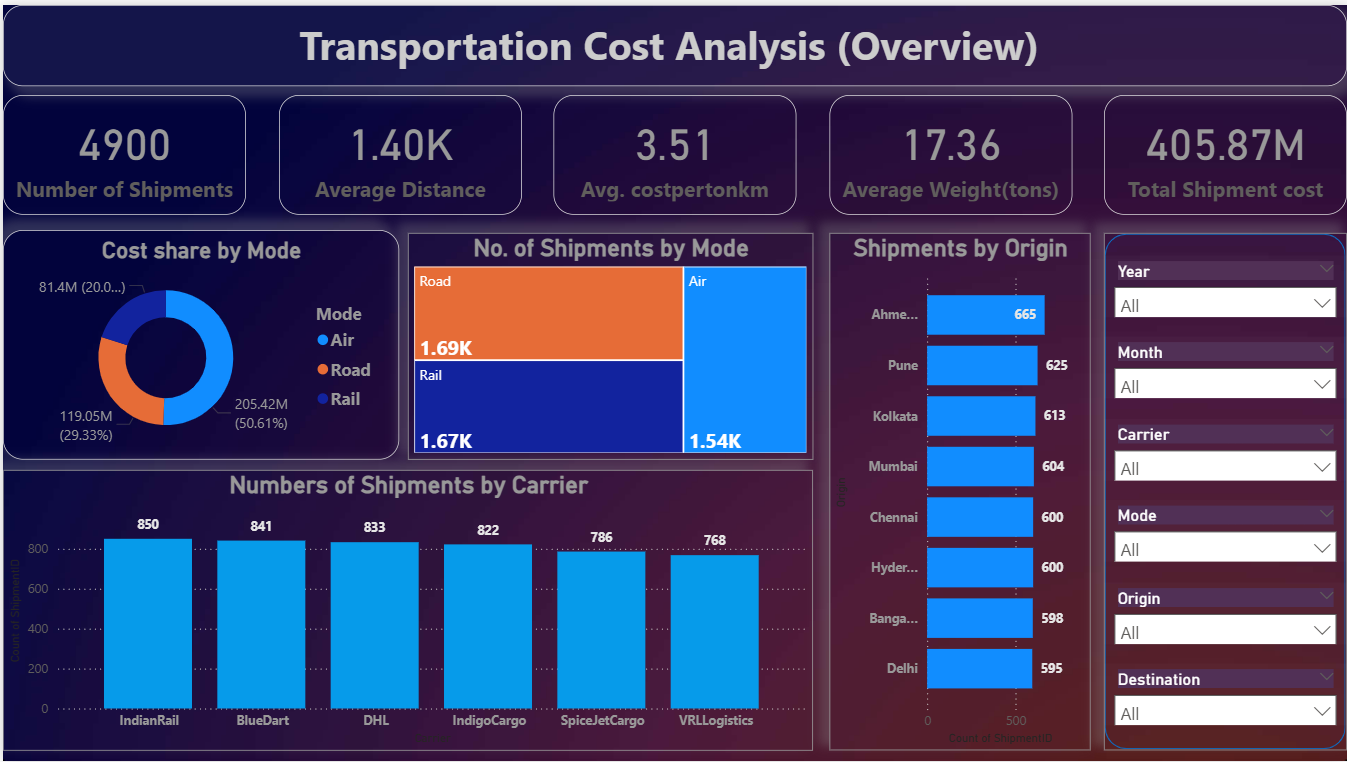

Layout of this report page (visuals, bound fields, positions):
{"tool":"powerbi","page":{"name":"Overview","canvas":[1280,720],"ordinal":0},"visuals":[{"type":"textbox","box":[0,0,1280,77.5],"z":0},{"type":"card","fields":{"Values":["cleaned_shipments.ShipmentID"]},"box":[0,86.2,231.2,113.8],"z":1000},{"type":"card","fields":{"Values":["cleaned_shipments.Distance_km"]},"box":[262.2,86.2,231.2,113.8],"z":2000},{"type":"card","fields":{"Values":["cleaned_shipments.Cost_per_TonKm"]},"box":[524.4,86.2,231.2,113.8],"z":3000},{"type":"card","fields":{"Values":["cleaned_shipments.Weight_tons"]},"box":[786.6,86.2,231.2,113.8],"z":4000},{"type":"card","fields":{"Values":["cleaned_shipments.TotalCost"]},"box":[1048.8,86.2,231.2,113.8],"z":5000},{"type":"donutChart","title":"Cost share by Mode","fields":{"Category":["cleaned_shipments.Mode"],"Y":["cleaned_shipments.TotalCost"]},"box":[0,214.3,377.1,218.6],"z":6000},{"type":"shape","box":[1048.6,217.1,231.4,492.9],"z":7000},{"type":"slicer","fields":{"Values":["cleaned_shipments.Date.Variation.Date Hierarchy.Year"]},"box":[1048.6,238.6,231.4,58.6],"z":8000},{"type":"slicer","fields":{"Values":["cleaned_shipments.Destination"]},"box":[1048.6,627.1,231.4,58.6],"z":9000},{"type":"slicer","fields":{"Values":["cleaned_shipments.Mode"]},"box":[1048.6,471.7,231.4,58.6],"z":10000},{"type":"slicer","fields":{"Values":["cleaned_shipments.Carrier"]},"box":[1048.6,394,231.4,58.6],"z":11000},{"type":"slicer","fields":{"Values":["cleaned_shipments.Origin"]},"box":[1048.6,549.4,231.4,58.6],"z":12000},{"type":"slicer","fields":{"Values":["cleaned_shipments.Date.Variation.Date Hierarchy.Month"]},"box":[1048.6,316.3,231.4,58.6],"z":13000},{"type":"clusteredBarChart","title":"Shipments by Origin","fields":{"Category":["cleaned_shipments.Origin"],"Y":["cleaned_shipments.ShipmentID"]},"box":[787.1,217.1,248.6,492.9],"z":14000},{"type":"clusteredColumnChart","title":"Numbers of Shipments by Carrier","fields":{"Category":["cleaned_shipments.Carrier"],"Y":["cleaned_shipments.ShipmentID"]},"box":[0,442.9,771.4,267.1],"z":15000},{"type":"treemap","title":"No. of Shipments by Mode","fields":{"Values":["cleaned_shipments.ShipmentID"],"Group":["cleaned_shipments.Mode"]},"box":[385.7,217.1,385.7,215.7],"z":16000}]}

Visuals, with their boxes in screenshot pixels (x1, y1, x2, y2), scaled from the page's 1280x720 canvas onto the 1347x762 screenshot:
textbox: select_region(0, 0, 1346, 82)
card - cleaned_shipments.ShipmentID: select_region(0, 91, 243, 212)
card - cleaned_shipments.Distance_km: select_region(276, 91, 519, 212)
card - cleaned_shipments.Cost_per_TonKm: select_region(552, 91, 795, 212)
card - cleaned_shipments.Weight_tons: select_region(828, 91, 1071, 212)
card - cleaned_shipments.TotalCost: select_region(1104, 91, 1346, 212)
"Cost share by Mode" donutChart: select_region(0, 227, 397, 458)
shape: select_region(1103, 230, 1346, 751)
slicer - cleaned_shipments.Date.Variation.Date Hierarchy.Year: select_region(1103, 253, 1346, 315)
slicer - cleaned_shipments.Destination: select_region(1103, 664, 1346, 726)
slicer - cleaned_shipments.Mode: select_region(1103, 499, 1346, 561)
slicer - cleaned_shipments.Carrier: select_region(1103, 417, 1346, 479)
slicer - cleaned_shipments.Origin: select_region(1103, 581, 1346, 643)
slicer - cleaned_shipments.Date.Variation.Date Hierarchy.Month: select_region(1103, 335, 1346, 397)
"Shipments by Origin" clusteredBarChart: select_region(828, 230, 1090, 751)
"Numbers of Shipments by Carrier" clusteredColumnChart: select_region(0, 469, 812, 751)
"No. of Shipments by Mode" treemap: select_region(406, 230, 812, 458)
